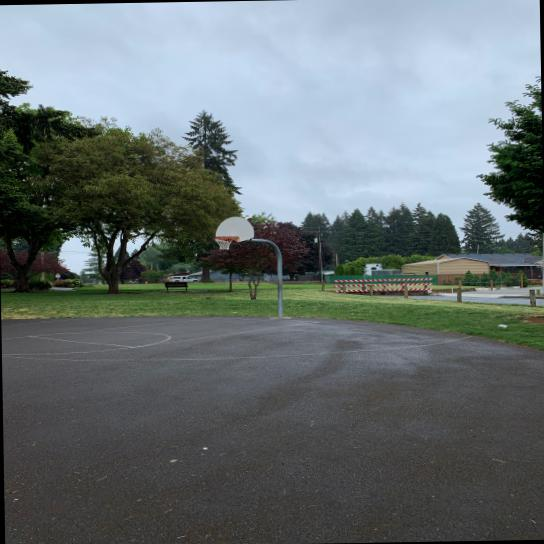basketball-hoop: (212, 236, 234, 251)
